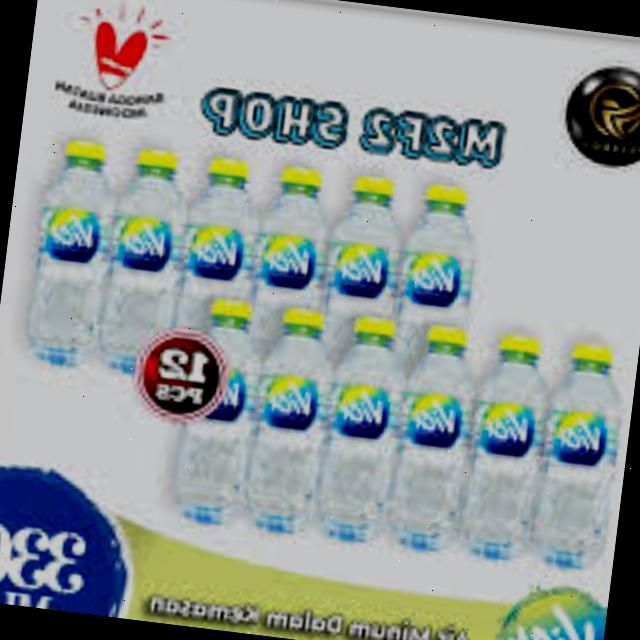trash: (444, 325, 562, 571), (151, 287, 271, 524), (375, 313, 486, 566), (234, 301, 344, 541), (521, 340, 636, 569), (75, 144, 189, 375), (15, 138, 119, 370), (312, 309, 408, 552), (154, 156, 266, 344), (382, 178, 484, 338), (306, 165, 410, 317), (249, 166, 333, 320)
